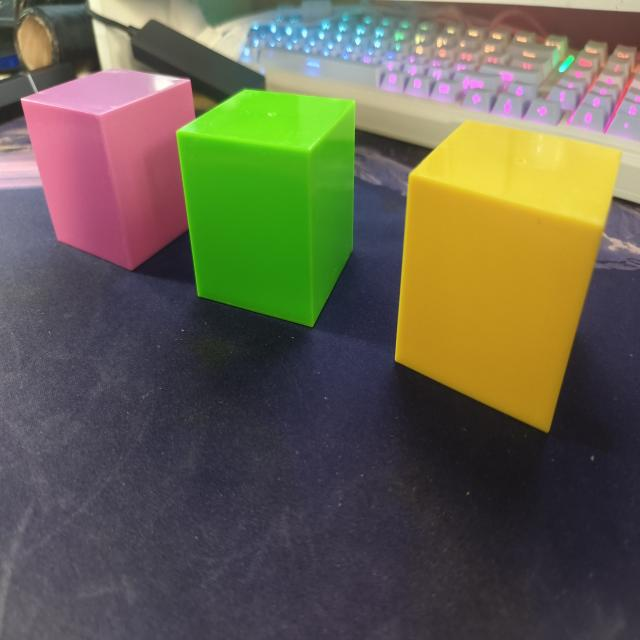green: (174, 91, 357, 329)
pink: (21, 70, 199, 272)
yellow: (393, 120, 622, 435)
